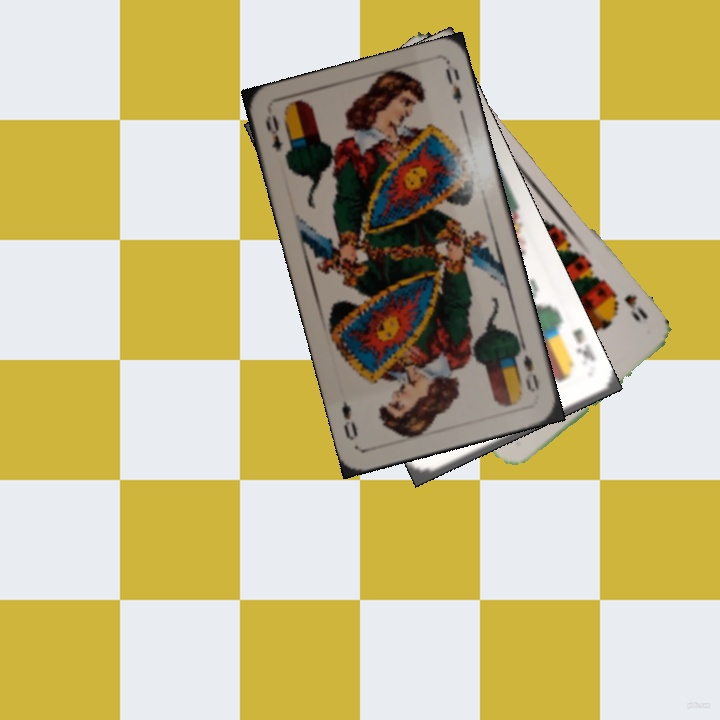EK: (569, 324, 598, 365)
EO: (511, 341, 542, 395), (261, 110, 285, 155)
S9: (605, 283, 651, 325)
